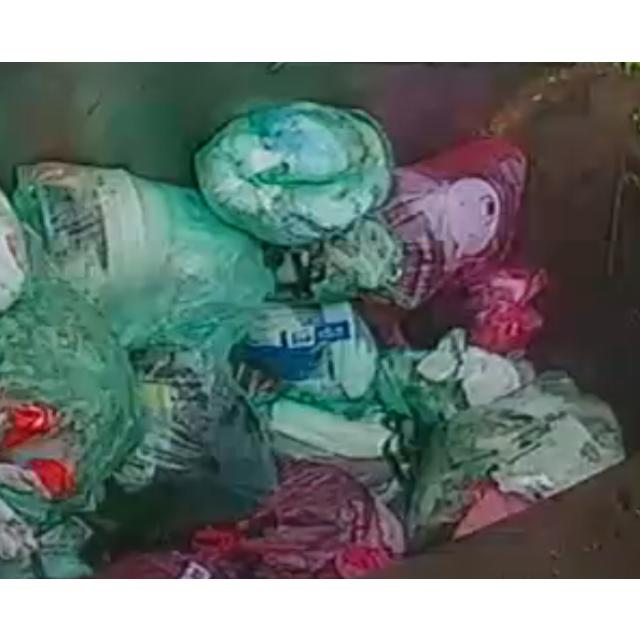general_trashbag: (12, 161, 274, 367), (88, 346, 276, 548), (0, 276, 142, 530), (195, 100, 394, 244), (230, 301, 381, 417), (264, 213, 409, 302)
other_trashbag: (104, 459, 389, 577), (381, 136, 526, 307), (400, 260, 548, 353)
